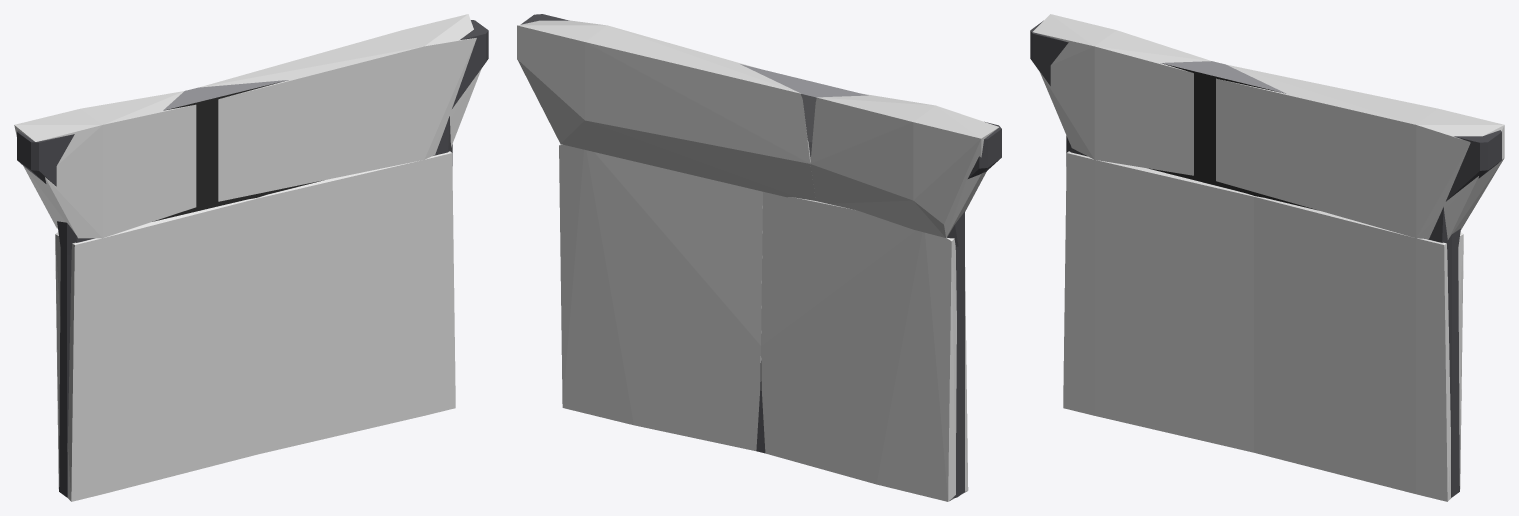
File: SM_Bld_Bridge_Rear_Wall_01.fbx
The picture shows the model from 3 angles, left to right: view 1: azimuth 30°, elevation 25°; view 2: azimuth 150°, elevation 25°; view 3: azimuth 330°, elevation 25°; orthographic projection. The views are drawn at different scales.
Visible parts, largest first — view 1: SM_Bld_Bridge_Rear_Wall_01_ConvexHulls, SM_Bld_Bridge_Rear_Wall_01_LOD0; view 2: SM_Bld_Bridge_Rear_Wall_01_ConvexHulls, SM_Bld_Bridge_Rear_Wall_01_LOD0; view 3: SM_Bld_Bridge_Rear_Wall_01_ConvexHulls, SM_Bld_Bridge_Rear_Wall_01_LOD0.
Boxes of the visible parts, x1=… form: SM_Bld_Bridge_Rear_Wall_01_ConvexHulls: x1=14, y1=14, x2=481, y2=501; SM_Bld_Bridge_Rear_Wall_01_LOD0: x1=17, y1=20, x2=488, y2=497; SM_Bld_Bridge_Rear_Wall_01_ConvexHulls: x1=517, y1=20, x2=998, y2=501; SM_Bld_Bridge_Rear_Wall_01_LOD0: x1=521, y1=14, x2=1001, y2=497; SM_Bld_Bridge_Rear_Wall_01_ConvexHulls: x1=1033, y1=14, x2=1504, y2=501; SM_Bld_Bridge_Rear_Wall_01_LOD0: x1=1030, y1=20, x2=1501, y2=497.
Bounding box in the file's own units: 55.18 × 657 × 507.
Materials: 1 (1 with a texture image).
